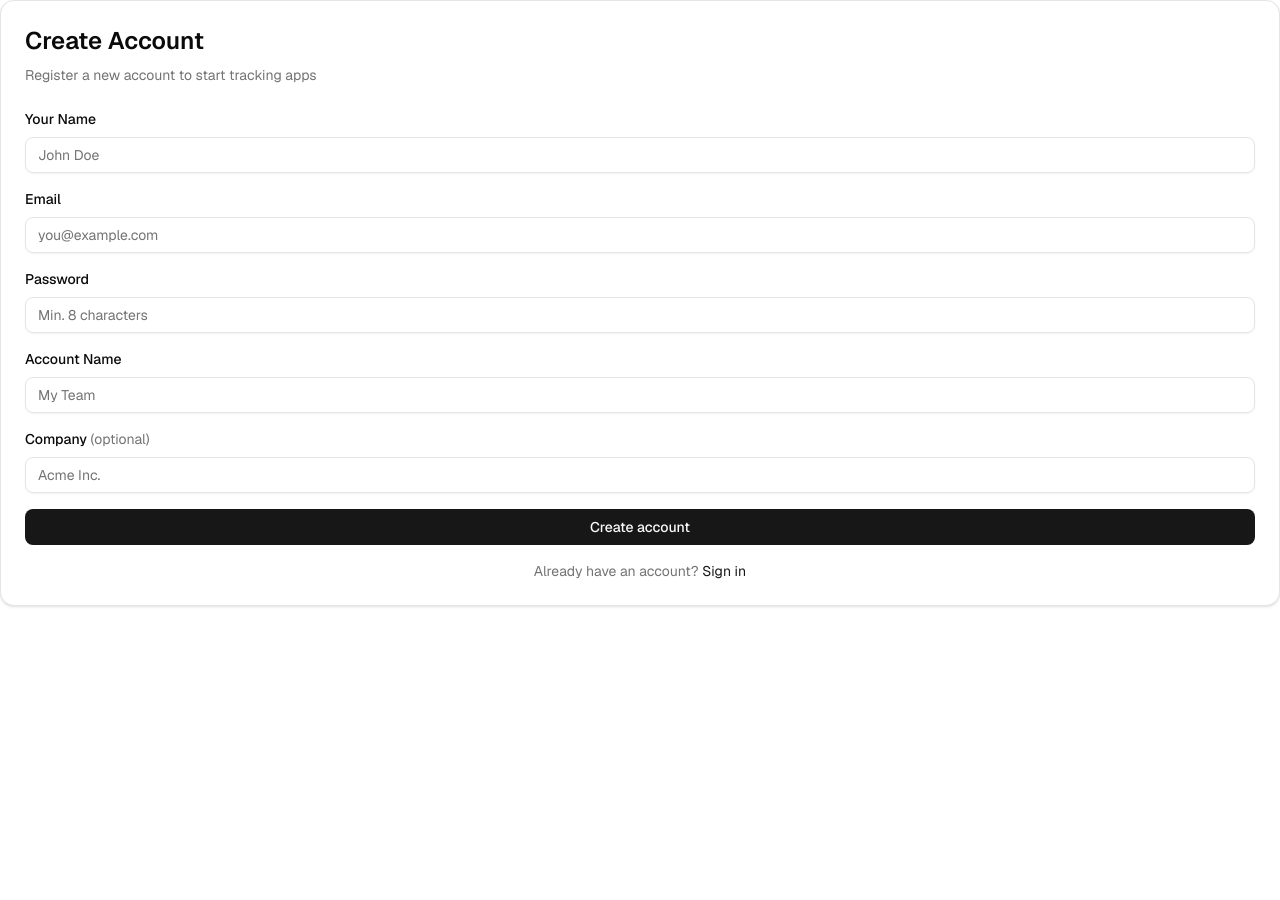
Test: RegisterPage › shows error message on registration failure
This screenshot has width=1280, height=900.
Type "John" into the field labelled "Your Name" at (640, 155), box [25,137,1255,173]
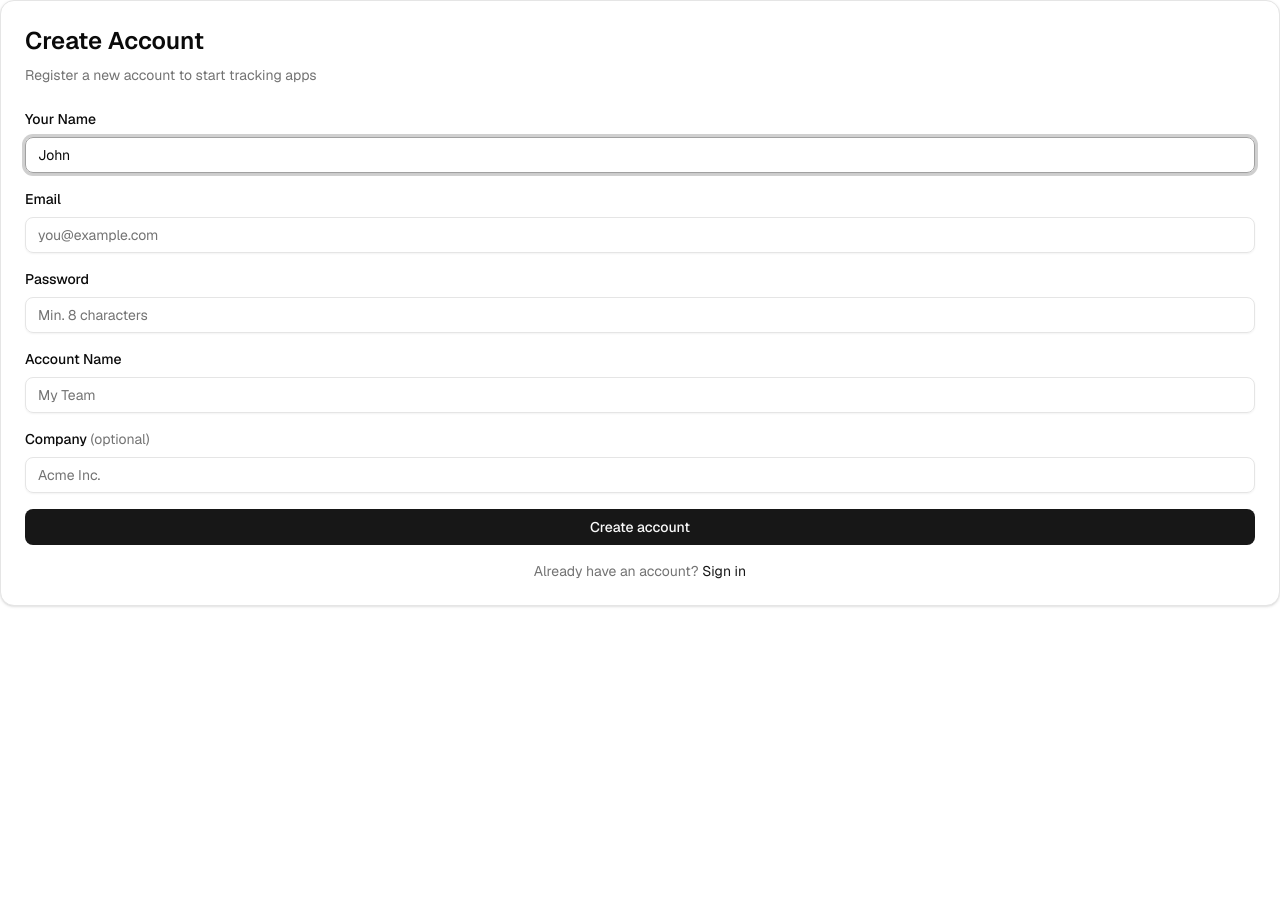
Type "john@example.com" into the field labelled "Email" at (640, 235), box [25,217,1255,253]
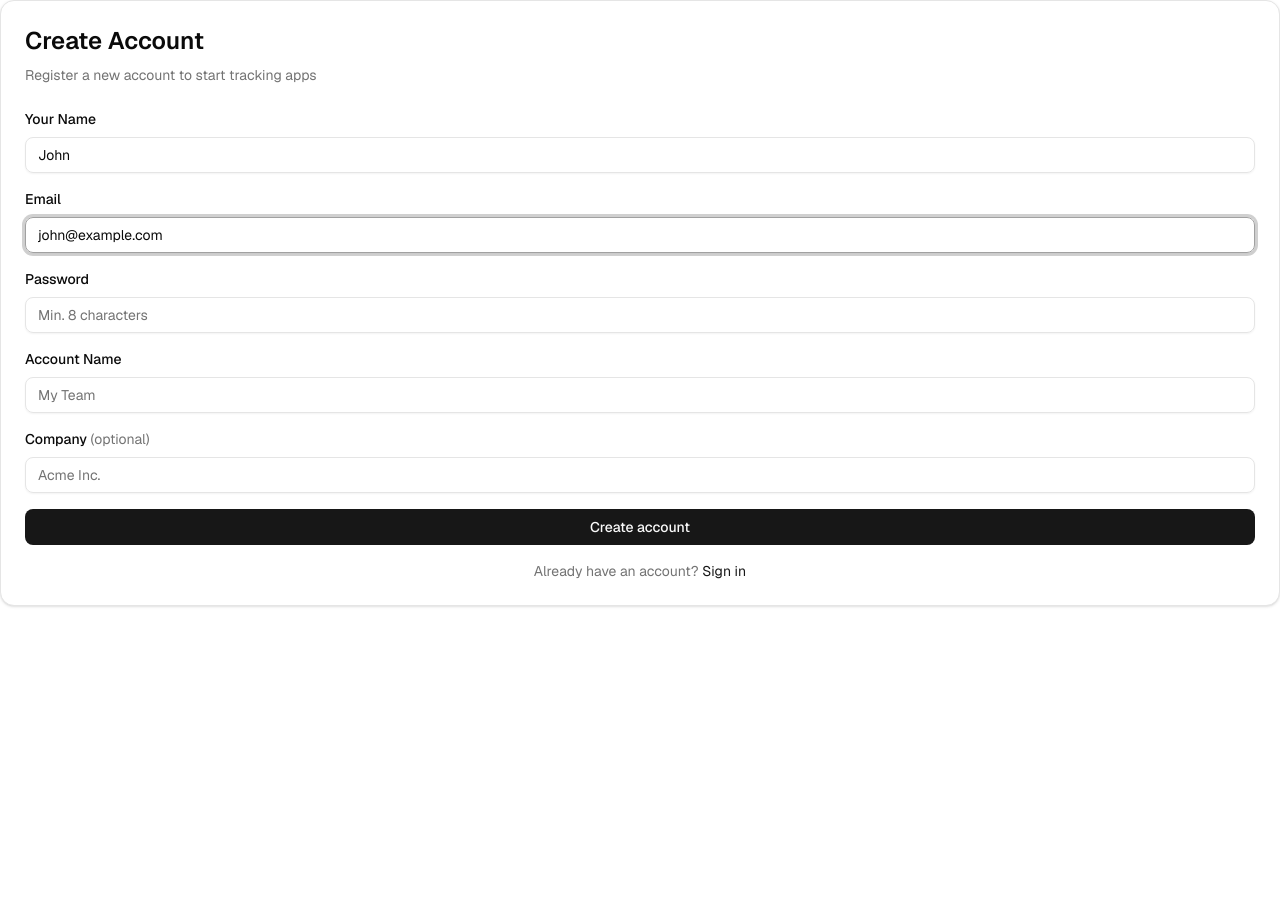
Type "password123" into the password field labelled "Password" at (640, 315), box [25,297,1255,333]
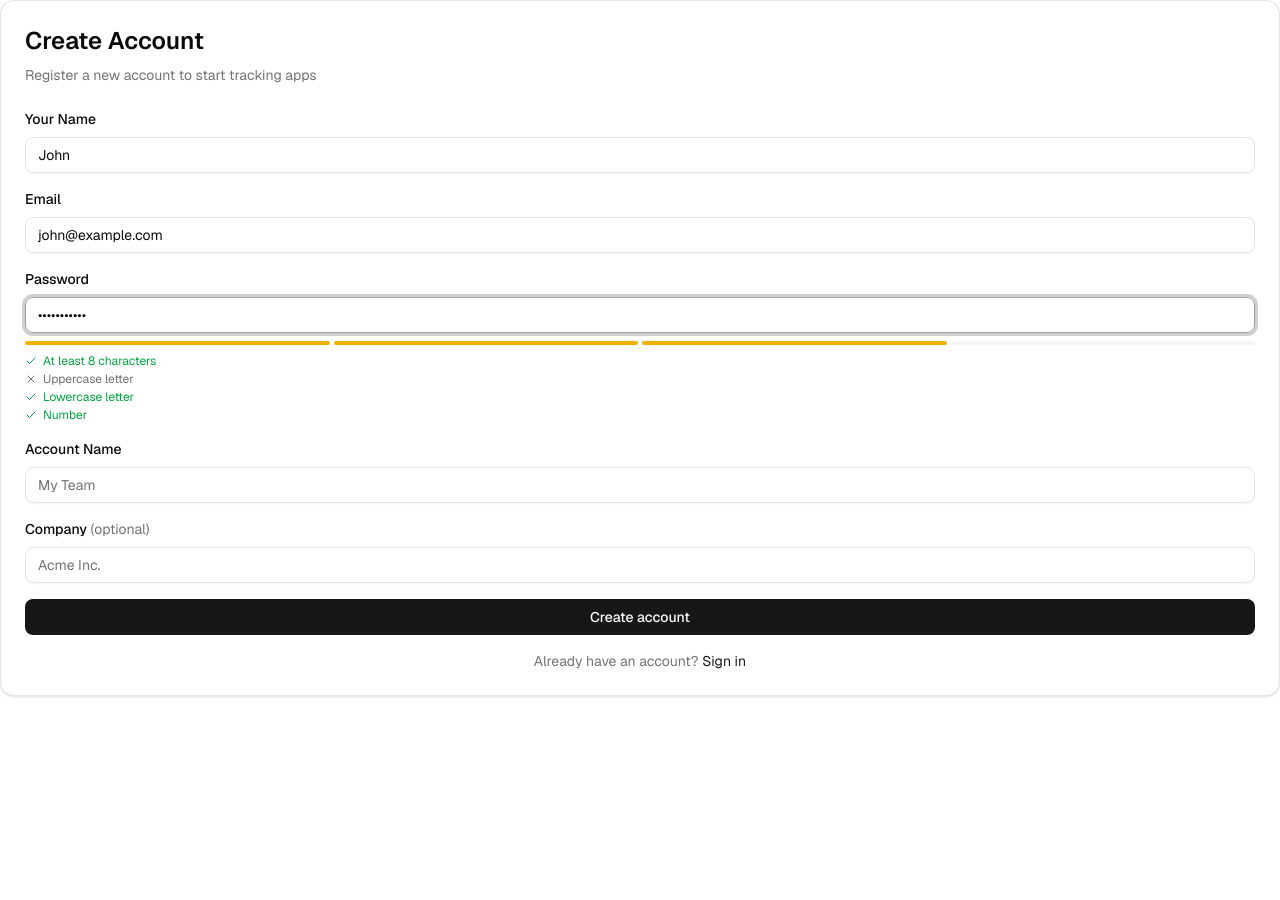
Type "Team" into the field labelled "Account Name" at (640, 485), box [25,467,1255,503]
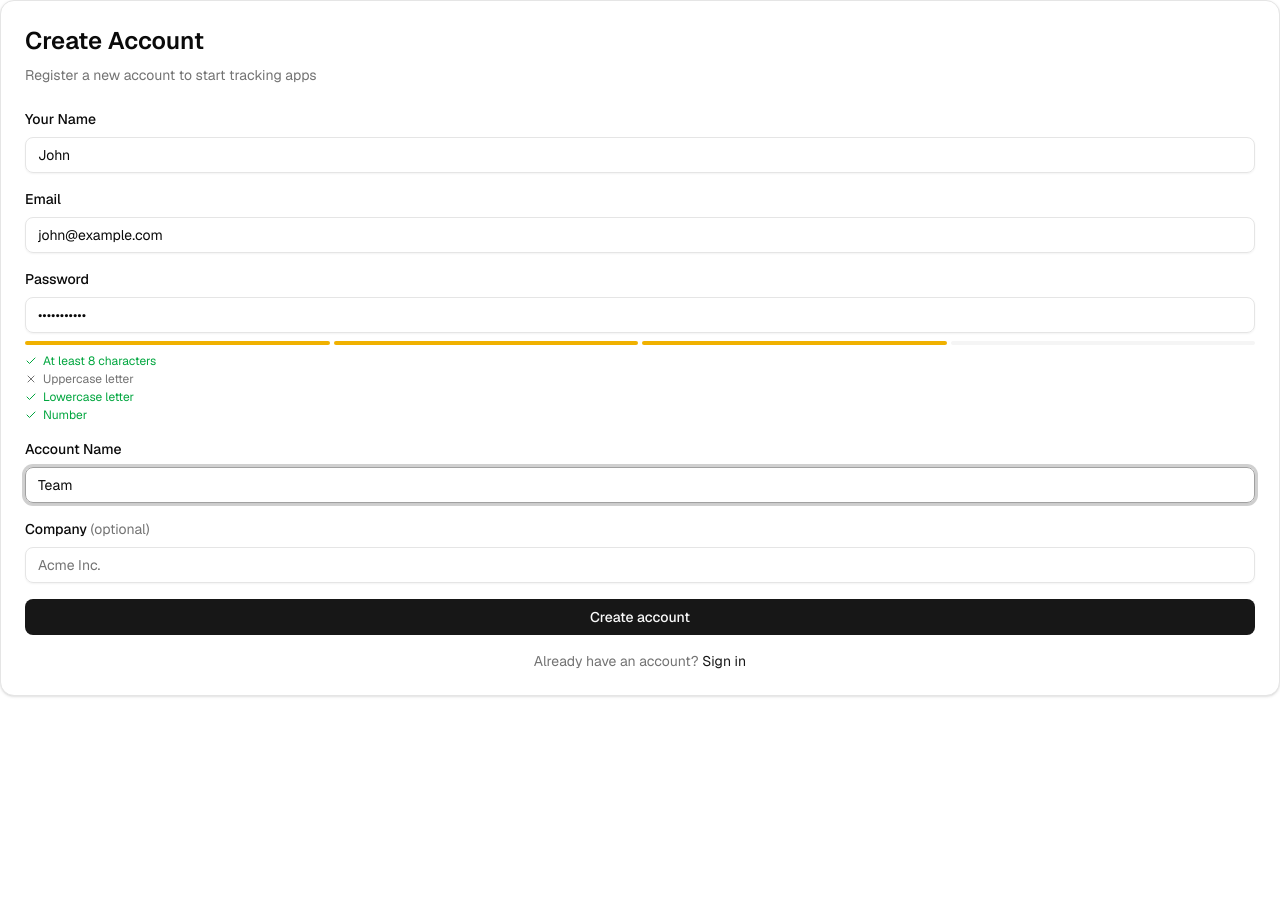
Click the button "Create account" at (640, 617), box [25,599,1255,635]
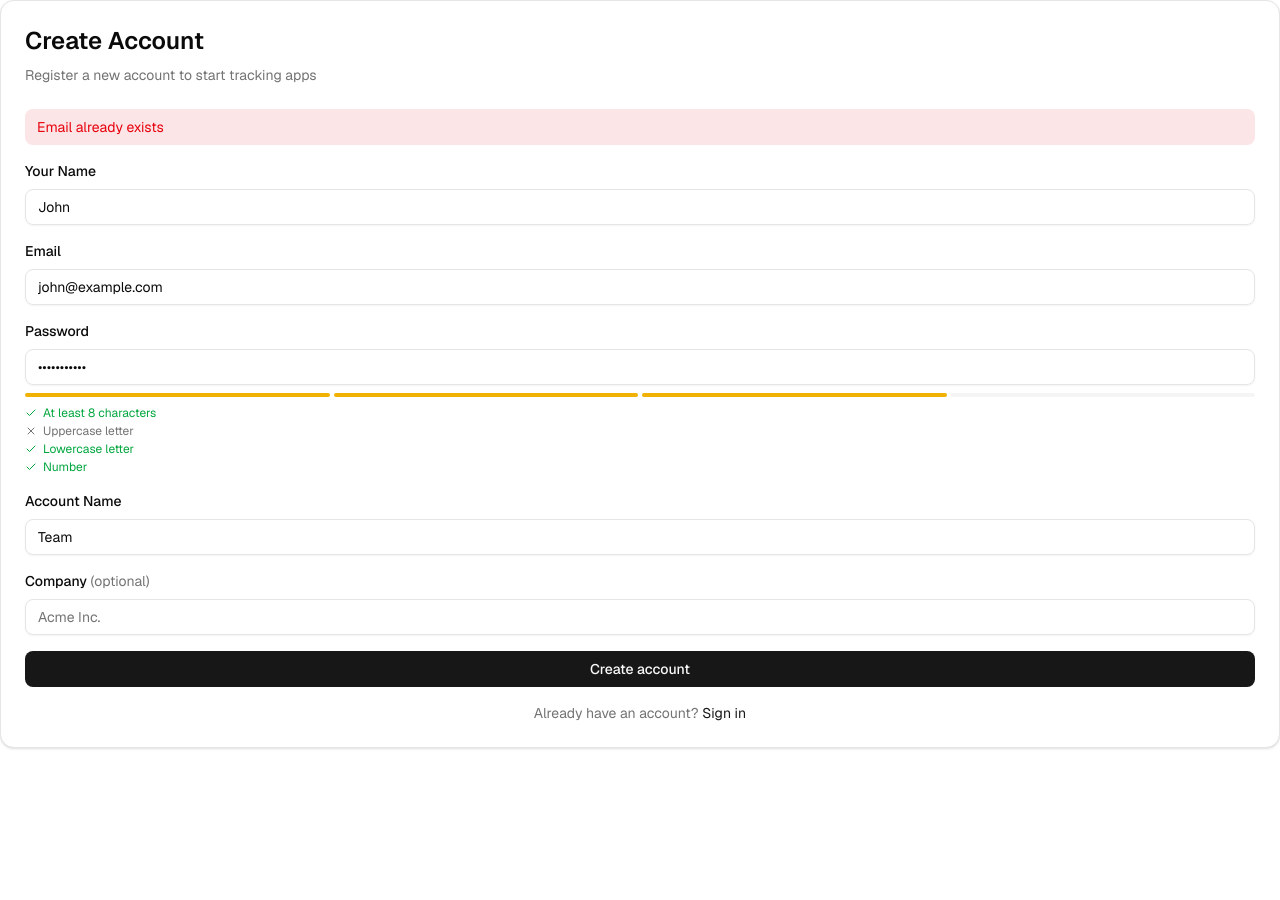
Now the text "Email already exists" is shown, box [25,109,1255,145]
